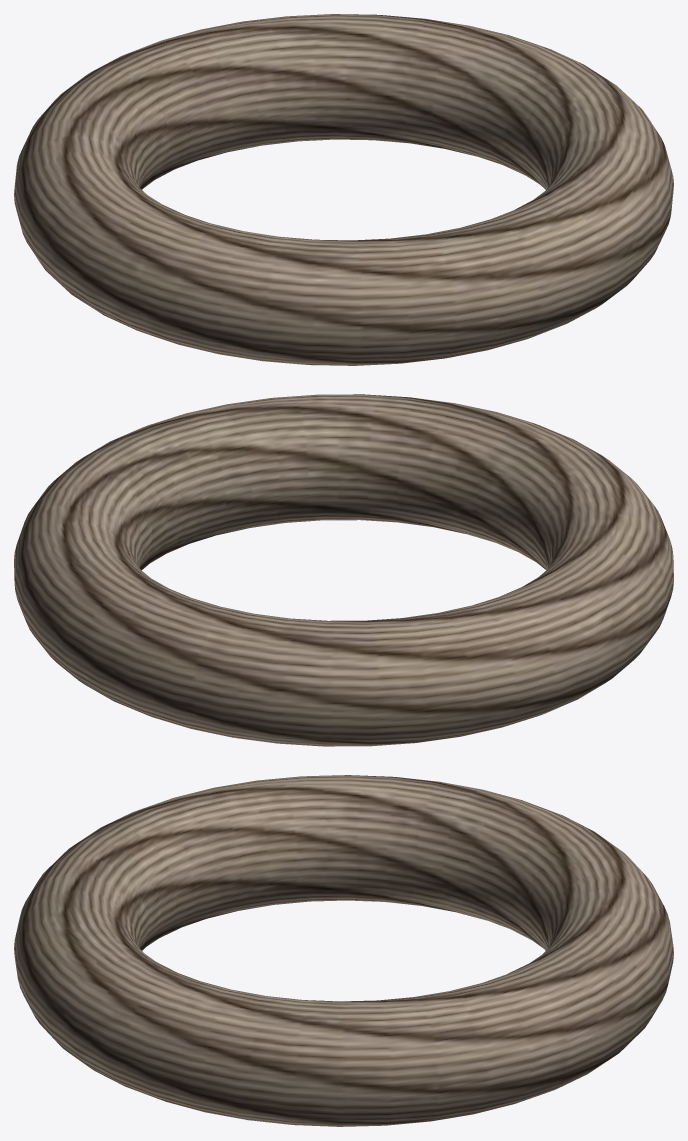
File: Rope3F.fbx
3 renders of one model, top to bottom at view 1: azimuth 30°, elevation 25°; view 2: azimuth 150°, elevation 25°; view 3: azimuth 270°, elevation 25°, orthographic.
Parts seen in each view (by area): view 1: pasted__pTorus1; view 2: pasted__pTorus1; view 3: pasted__pTorus1.
Boxes of the visible parts, left/top/right/bottom form: pasted__pTorus1: left=14, top=14, right=673, bottom=365; pasted__pTorus1: left=14, top=394, right=673, bottom=746; pasted__pTorus1: left=14, top=775, right=673, bottom=1126.
Size of the model in its own units: 0.8806 by 0.1679 by 0.8806.
